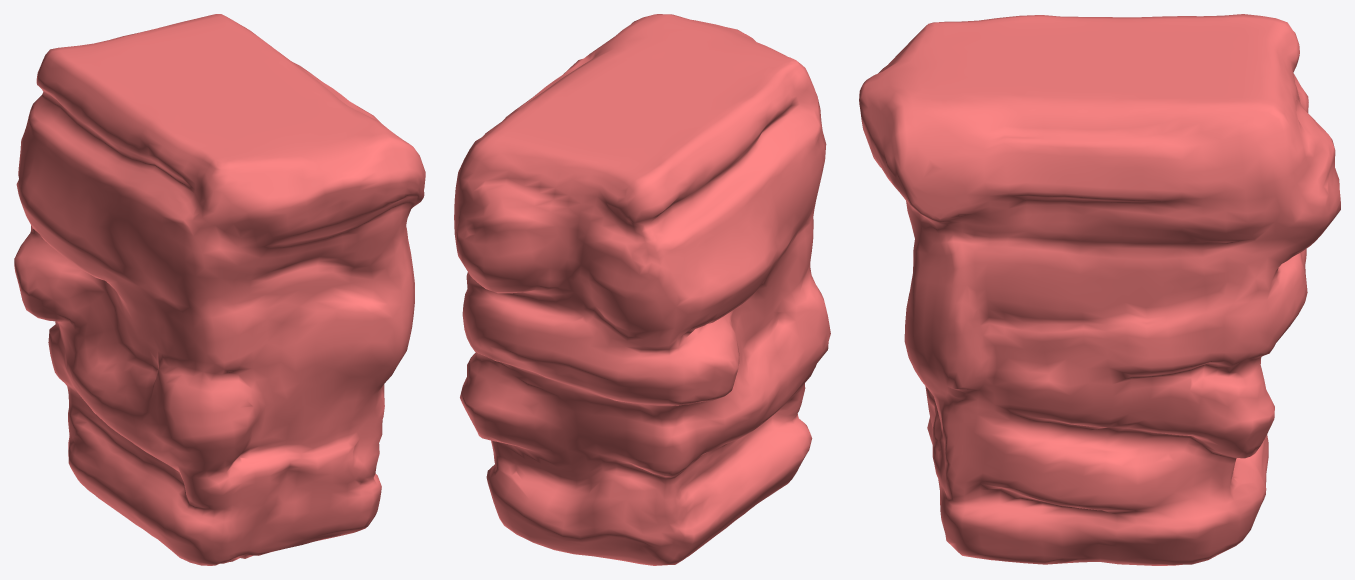
Rendered from rock07.fbx.
3 views of the same model, side by side, from view 1: azimuth 30°, elevation 25°; view 2: azimuth 150°, elevation 25°; view 3: azimuth 270°, elevation 25° (orthographic). The views are drawn at different scales.
Visible parts, largest first — view 1: PM3D_Cube3D_1; view 2: PM3D_Cube3D_1; view 3: PM3D_Cube3D_1.
Boxes of the visible parts, left/top/right/bottom form: PM3D_Cube3D_1: left=14, top=14, right=425, bottom=565; PM3D_Cube3D_1: left=454, top=14, right=830, bottom=565; PM3D_Cube3D_1: left=859, top=14, right=1340, bottom=565.
Size of the model in its own units: 2.52 by 3.72 by 3.56.
